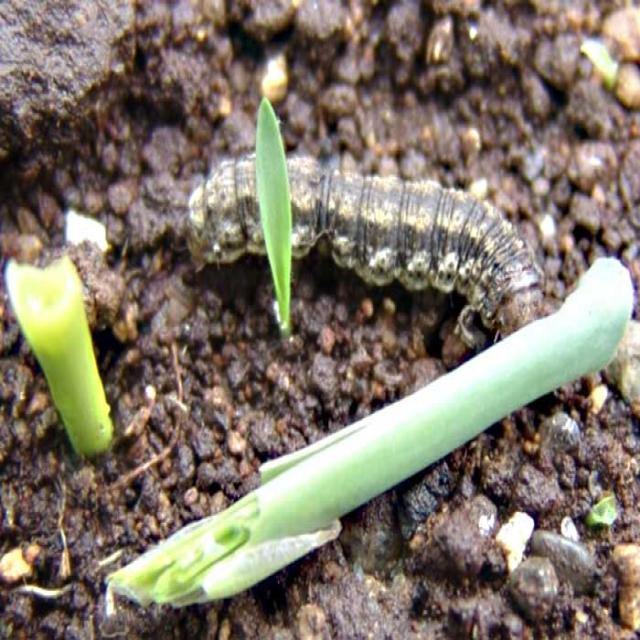Cutworm: (189, 151, 544, 338)
